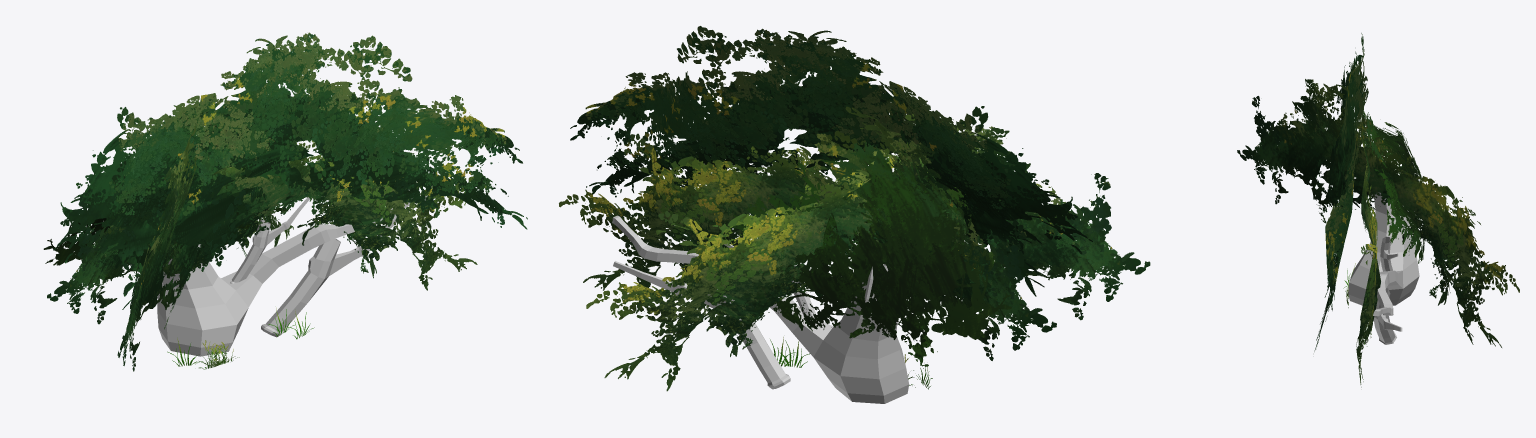
File: shu2.fbx
3 views of the same model, side by side, from view 1: azimuth 30°, elevation 25°; view 2: azimuth 150°, elevation 25°; view 3: azimuth 270°, elevation 25° (orthographic). The views are drawn at different scales.
Parts seen in each view (by area): view 1: shu2; view 2: shu2; view 3: shu2.
Boxes of the visible parts, x1,y1,x2,y2 form: shu2: (43, 32, 527, 371); shu2: (559, 26, 1150, 403); shu2: (1237, 33, 1519, 387).
Bounding box in the file's own units: 705 × 454 × 446.
